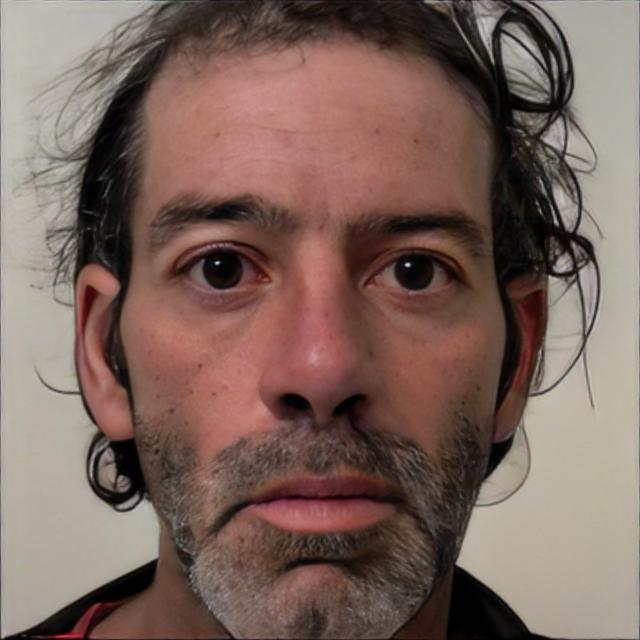neutral: (116, 29, 511, 640)
